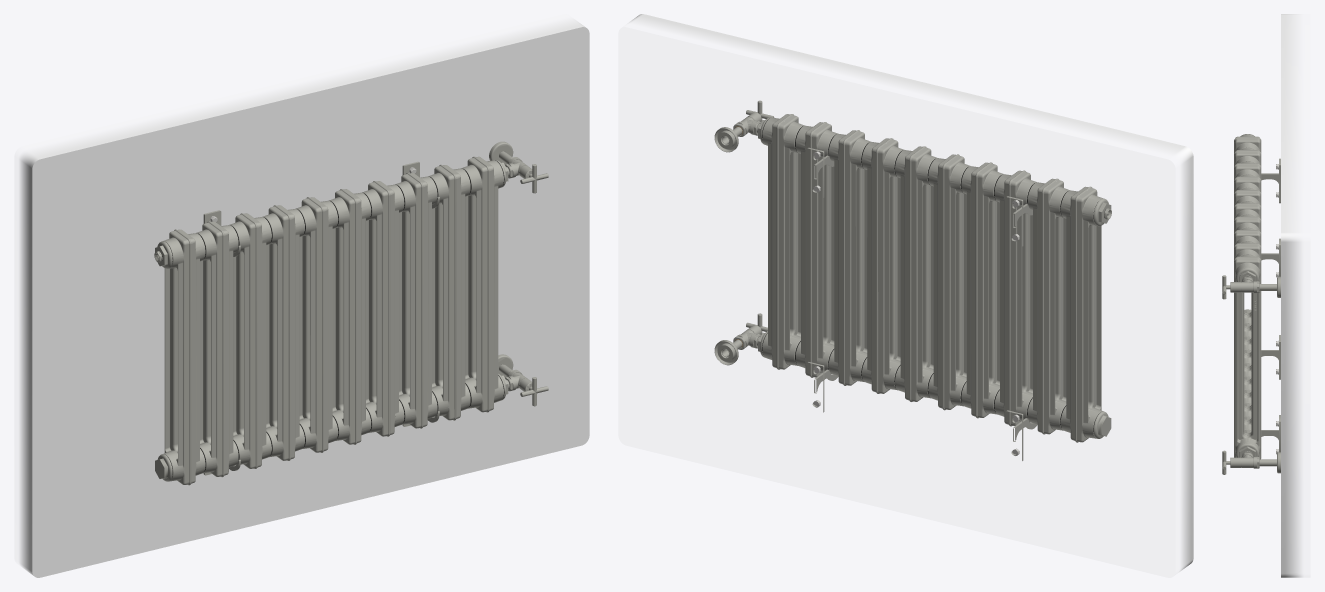
The model's file is obj_bart_cast_iron_radiator_b489f0.glb.
3 views of the same model, side by side, from view 1: azimuth 30°, elevation 25°; view 2: azimuth 150°, elevation 25°; view 3: azimuth 270°, elevation 25° (orthographic). The views are drawn at different scales.
Visible parts, largest first — view 1: obj_bart_cast_iron_radiator_b489f0; view 2: obj_bart_cast_iron_radiator_b489f0; view 3: obj_bart_cast_iron_radiator_b489f0.
Part boxes in pixels (x1,y1,x2,y2): obj_bart_cast_iron_radiator_b489f0: (20, 18, 589, 577); obj_bart_cast_iron_radiator_b489f0: (629, 14, 1193, 570); obj_bart_cast_iron_radiator_b489f0: (1222, 14, 1301, 577).
Size of the model in its own units: 0.8 by 0.574 by 0.1329.
Materials: 14 (14 with a texture image).
